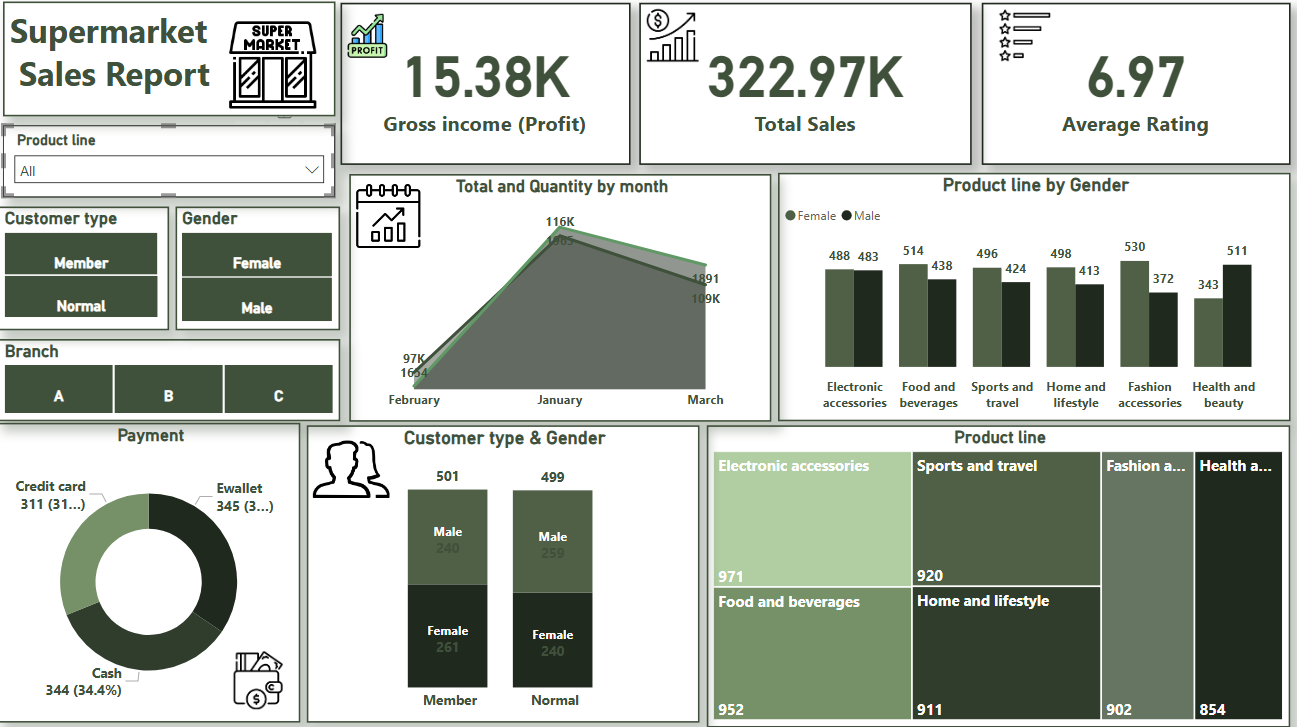

The page's visual inventory and layout, read from the dashboard file:
{"tool":"powerbi","page":{"name":"Page 1","canvas":[1280,720],"ordinal":0},"visuals":[{"type":"card","fields":{"Values":["supermarket_sales - Sheet1.avg rating"]},"box":[965.6,8.6,303.1,159.5],"z":0},{"type":"card","fields":{"Values":["supermarket_sales - Sheet1.profit"]},"box":[336.2,8.6,284.7,159.5],"z":1000},{"type":"card","fields":{"Values":["supermarket_sales - Sheet1.total sales"]},"box":[629.5,8.6,326.4,159.5],"z":2000},{"type":"clusteredColumnChart","title":"  Product line by Gender","fields":{"Category":["supermarket_sales - Sheet1.Product line"],"Series":["supermarket_sales - Sheet1.Gender"],"Y":["Sum(supermarket_sales - Sheet1.Quantity)"]},"box":[765.6,175.5,503.1,244.2],"z":3000},{"type":"treemap","title":" Product line","fields":{"Group":["supermarket_sales - Sheet1.Product line"],"Values":["Sum(supermarket_sales - Sheet1.Quantity)"]},"box":[695.7,423.3,573,296.9],"z":4000},{"type":"donutChart","title":" Payment","fields":{"Category":["supermarket_sales - Sheet1.Payment"],"Y":["CountNonNull(supermarket_sales - Sheet1.Invoice ID)"]},"box":[4.9,420.9,292,294.5],"z":5000},{"type":"lineChart","title":" Total and  Quantity by month","fields":{"Category":["supermarket_sales - Sheet1.month"],"Y":["Sum(supermarket_sales - Sheet1.Total)"],"Y2":["Sum(supermarket_sales - Sheet1.Quantity)"]},"box":[344.8,176.7,414.7,242.9],"z":6000},{"type":"columnChart","title":" Customer type & Gender","fields":{"Category":["supermarket_sales - Sheet1.Customer type"],"Y":["CountNonNull(supermarket_sales - Sheet1.Invoice ID)"],"Series":["supermarket_sales - Sheet1.Gender"]},"box":[303.1,423.3,385.3,292],"z":7000},{"type":"advancedSlicerVisual","fields":{"Values":["supermarket_sales - Sheet1.Branch"]},"box":[4.9,338.7,331.3,81],"z":8000},{"type":"advancedSlicerVisual","fields":{"Values":["supermarket_sales - Sheet1.Customer type"]},"box":[4.9,208.6,163.2,121.5],"z":9000},{"type":"advancedSlicerVisual","fields":{"Values":["supermarket_sales - Sheet1.Gender"]},"box":[174.2,208.6,162,121.5],"z":10000},{"type":"slicer","fields":{"Values":["supermarket_sales - Sheet1.Product line"]},"box":[4.9,128.8,326.4,71.2],"z":11000},{"type":"image","box":[629.5,8.6,66.3,63.8],"z":12000},{"type":"image","box":[955.8,8.6,104.3,63.8],"z":13000},{"type":"image","box":[222.1,640.5,66.3,66.3],"z":13001},{"type":"image","box":[344.8,177.9,77.3,79.8],"z":13002},{"type":"image","box":[336.2,9.8,52.8,62.6],"z":13003},{"type":"textbox","box":[4.9,7.4,326.4,112.9],"z":13004},{"type":"image","box":[222.1,19.6,95.7,100.6],"z":13005},{"type":"image","box":[304.3,423.3,84.7,85.9],"z":13006}]}

Visuals, with their boxes in screenshot pixels (x1, y1, x2, y2), scaled from the page's 1280x720 canvas onto the 1297x727 screenshot:
card - supermarket_sales - Sheet1.avg rating: bbox(978, 9, 1286, 170)
card - supermarket_sales - Sheet1.profit: bbox(341, 9, 629, 170)
card - supermarket_sales - Sheet1.total sales: bbox(638, 9, 969, 170)
"  Product line by Gender" clusteredColumnChart: bbox(776, 177, 1286, 424)
" Product line" treemap: bbox(705, 427, 1286, 726)
" Payment" donutChart: bbox(5, 425, 301, 722)
" Total and  Quantity by month" lineChart: bbox(349, 178, 770, 424)
" Customer type & Gender" columnChart: bbox(307, 427, 698, 722)
advancedSlicerVisual - supermarket_sales - Sheet1.Branch: bbox(5, 342, 341, 424)
advancedSlicerVisual - supermarket_sales - Sheet1.Customer type: bbox(5, 211, 170, 333)
advancedSlicerVisual - supermarket_sales - Sheet1.Gender: bbox(177, 211, 341, 333)
slicer - supermarket_sales - Sheet1.Product line: bbox(5, 130, 336, 202)
image: bbox(638, 9, 705, 73)
image: bbox(968, 9, 1074, 73)
image: bbox(225, 647, 292, 714)
image: bbox(349, 180, 428, 260)
image: bbox(341, 10, 394, 73)
textbox: bbox(5, 7, 336, 121)
image: bbox(225, 20, 322, 121)
image: bbox(308, 427, 394, 514)
